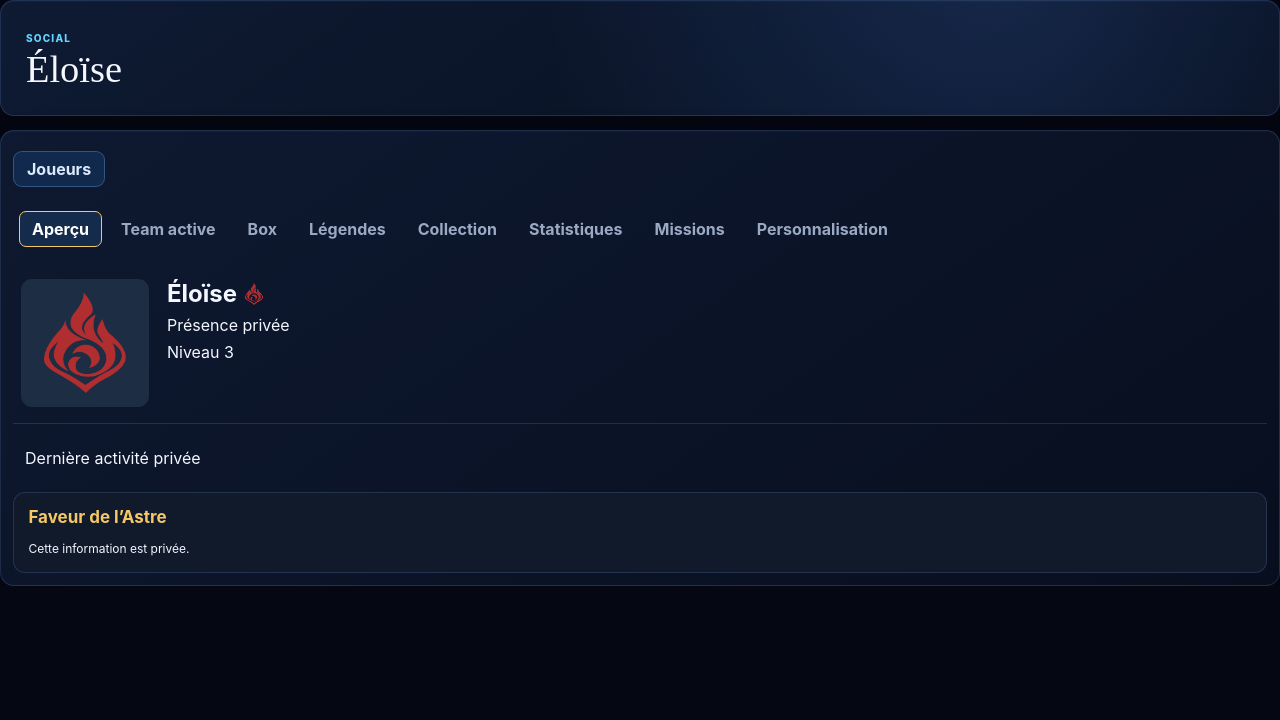
Social UI › rereads the profile on external refresh while keeping its selected tab
What coordinates should you click on to do the following:
click the button "Box"
I would click on:
 (262, 229)
Its box is [235,211,290,247].
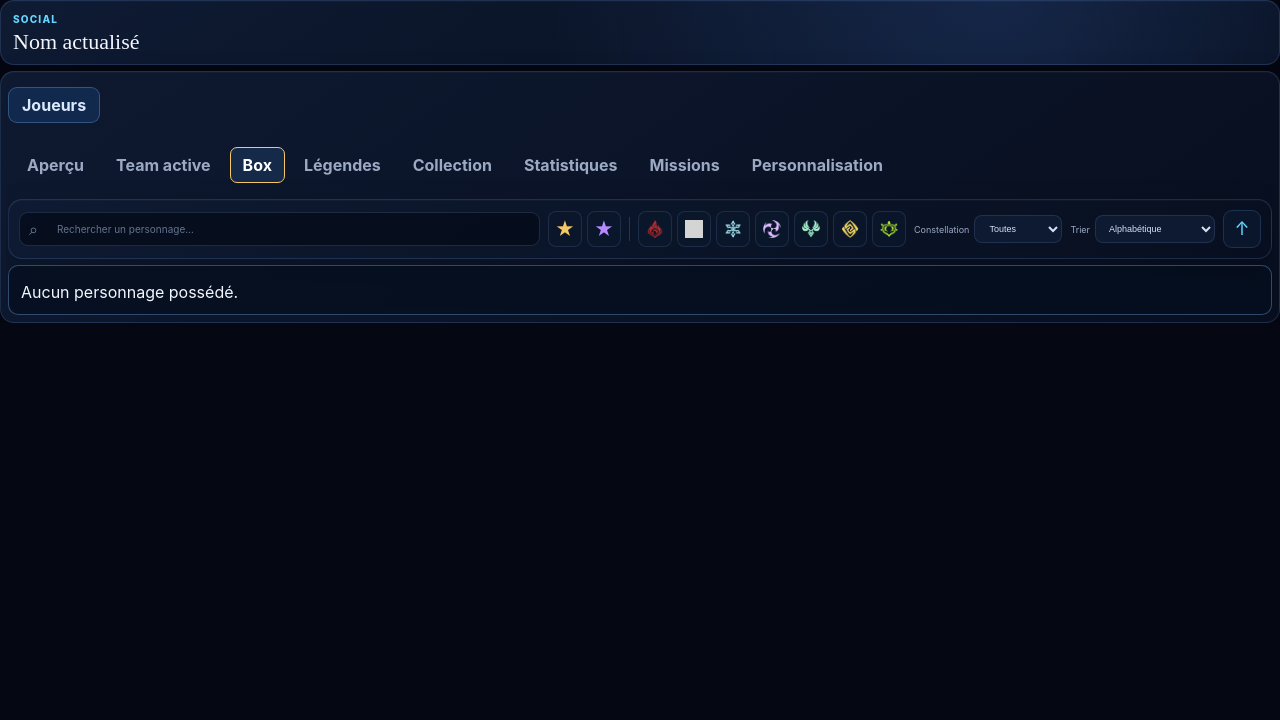
Check: the text "Nom actualisé" is shown, box [13,31,140,53]
Check: the text "Aucun personnage possédé." is shown, box [21,282,238,302]
